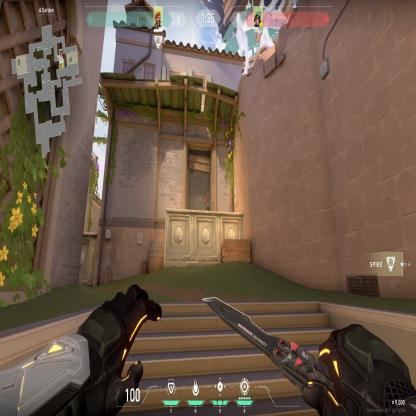enemy: (203, 189, 210, 212)
